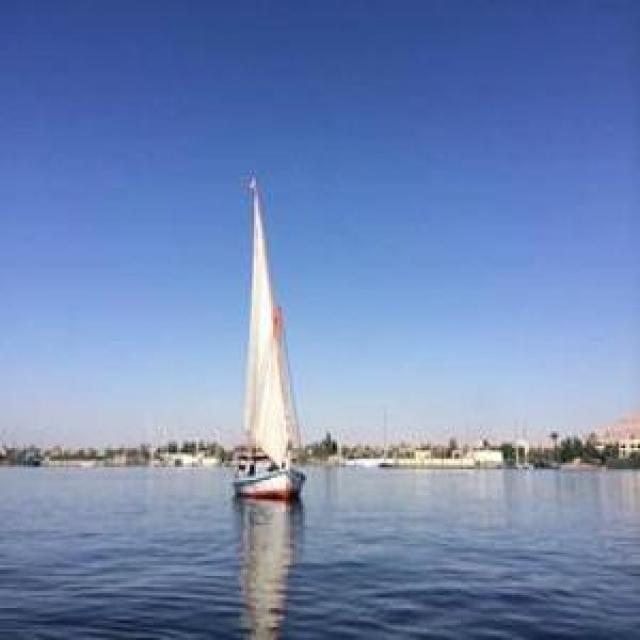sailboat: (218, 175, 316, 500)
